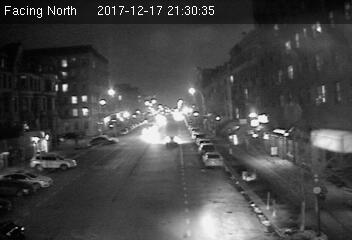car: (201, 151, 223, 168), (162, 134, 182, 147)
